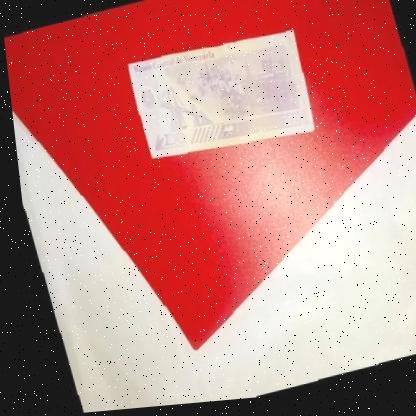vef_back: (120, 25, 319, 174)
